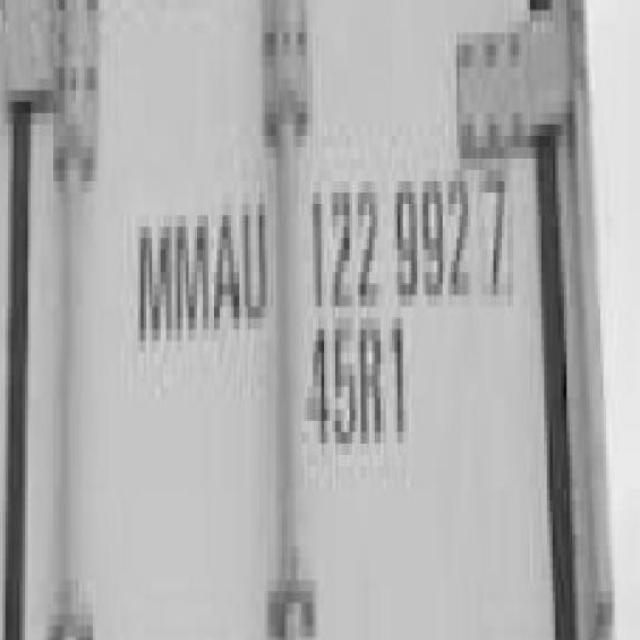dv: (477, 172, 513, 297)
owner: (124, 193, 272, 343)
serial: (299, 172, 471, 308)
size: (291, 315, 417, 457)
